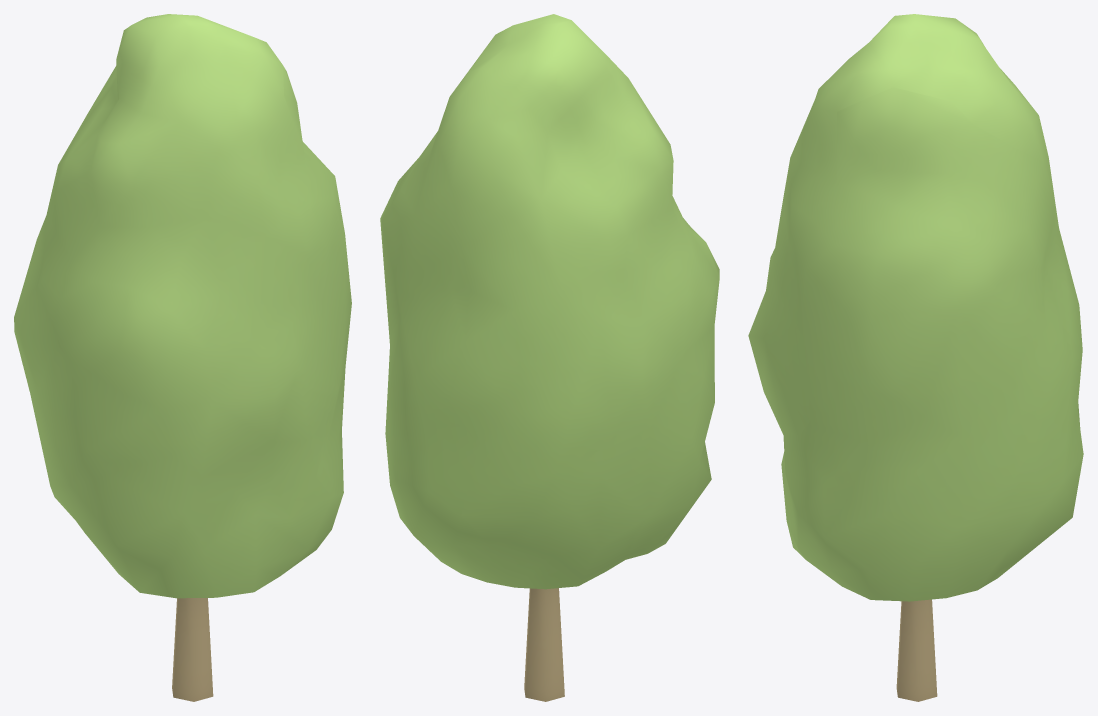
3 views of the same model, side by side, from view 1: azimuth 30°, elevation 25°; view 2: azimuth 150°, elevation 25°; view 3: azimuth 270°, elevation 25° (orthographic).
Visible parts, largest first — view 1: Circle.024; view 2: Circle.024; view 3: Circle.024.
Boxes of the visible parts, <box> form: Circle.024: <box>14,14,351,701</box>; Circle.024: <box>380,14,719,701</box>; Circle.024: <box>748,14,1083,701</box>.
Size of the model in its own units: 8.88 by 19.83 by 8.97.
Materials: 1 (1 with a texture image).
